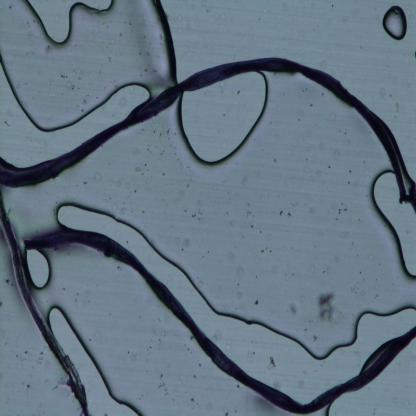Air bubble: (61, 196, 414, 362), (0, 0, 173, 130), (46, 300, 136, 416), (178, 70, 272, 169), (370, 170, 416, 282), (25, 248, 54, 292), (383, 4, 409, 42)
Background material: (316, 289, 346, 330), (332, 200, 354, 222), (158, 373, 167, 397), (266, 352, 276, 372), (290, 300, 298, 318), (275, 206, 285, 218), (254, 300, 259, 306)
Cellulose filter fibre: (0, 203, 88, 414)
Cotton: (21, 231, 416, 413), (0, 57, 408, 204)
